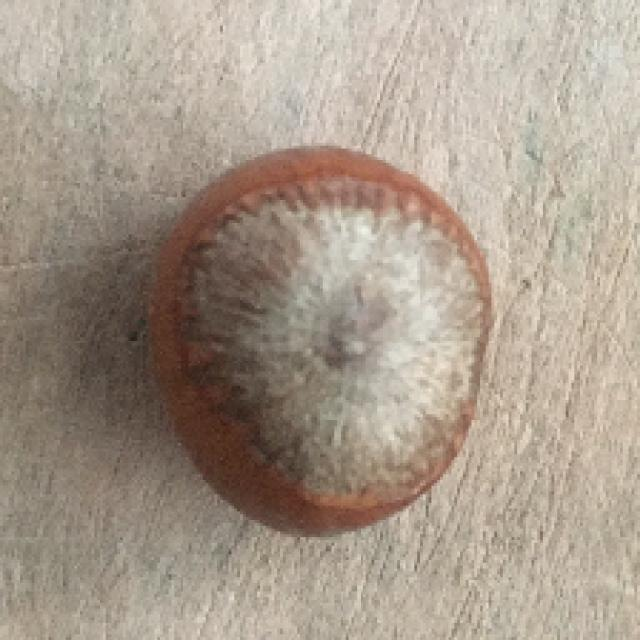QualityHazelnut: (139, 141, 497, 541)
